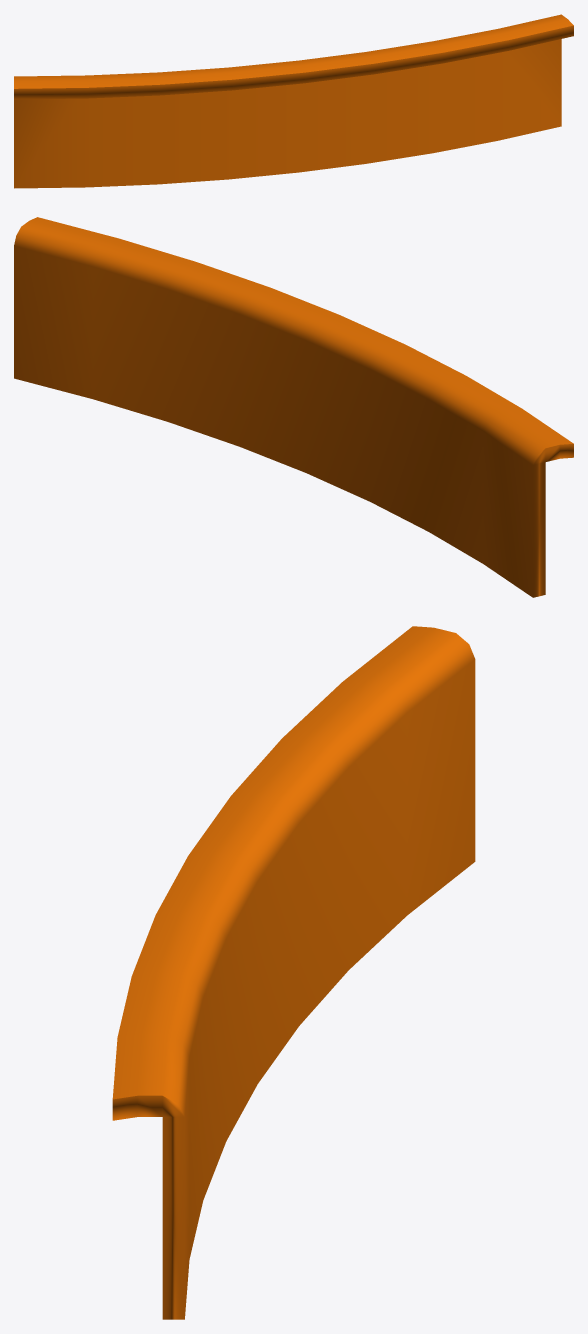
File: Plastic_Pipe_D_Left.fbx
3 views of the same model, one above another, from view 1: azimuth 30°, elevation 25°; view 2: azimuth 150°, elevation 25°; view 3: azimuth 270°, elevation 25° (orthographic). The views are drawn at different scales.
Visible parts, largest first — view 1: Plastic_Pipe_D_Left; view 2: Plastic_Pipe_D_Left; view 3: Plastic_Pipe_D_Left.
Part boxes in pixels (bbox=[...]): Plastic_Pipe_D_Left: bbox=[14, 14, 573, 188]; Plastic_Pipe_D_Left: bbox=[14, 217, 573, 597]; Plastic_Pipe_D_Left: bbox=[112, 626, 475, 1319].
Bounding box in the file's own units: 11.18 × 2.47 × 3.62.
